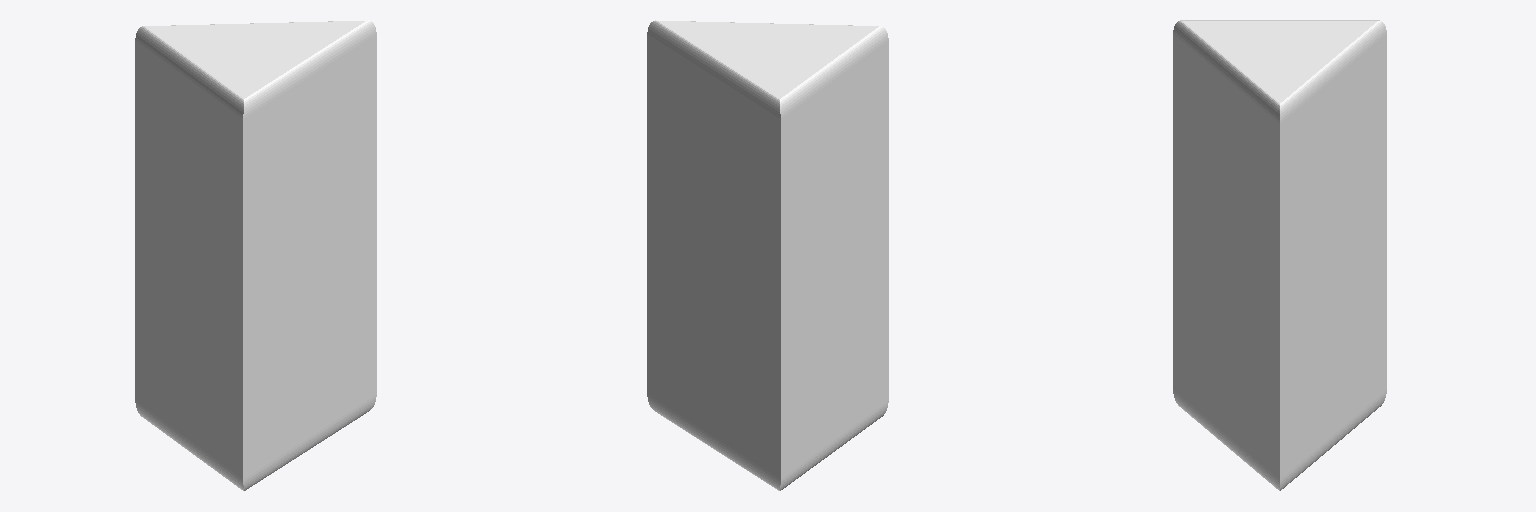
The robot description file, URDF, robot "apple.urdf":
<?xml version="0.0" ?>
<robot name="apple.urdf">
  <link name="baseLink">
    <contact>
      <lateral_friction value="0.3"/>
      <stiffness value="10000.0"/>
    </contact>
    <inertial>
      <origin rpy="0 0 0" xyz="0 0 0"/>
       <mass value="0.1"/>
       <inertia ixx="1" ixy="0" ixz="0" iyy="1" iyz="0" izz="1"/>
    </inertial>
    <visual>
      <origin rpy="0 0 0" xyz="0 0 0"/>
      <geometry>
            <mesh filename="cosmetic.stl" scale="0.001 0.001 0.001"/>
      </geometry>
       <material name="white">
        <color rgba="1 1 1 1"/>
      </material>
    </visual>
    <collision>
      <origin rpy="0 0 0" xyz="0 0 0"/>
      <geometry>
	 	<mesh filename="cosmetic.stl" scale="0.001 0.001 0.001"/>
      </geometry>
    </collision>
  </link>  
</robot>

--- What the picture shows (computed from the rendered views, not written in the file) ---
The picture shows the robot from 3 angles, left to right: view 1: azimuth 30°, elevation 25°; view 2: azimuth 150°, elevation 25°; view 3: azimuth 270°, elevation 25°; orthographic projection.
Robot: apple.urdf — 1 links, 0 joints (none); root link baseLink; default pose: all joints at 0.
Links seen in each view (by area): view 1: baseLink; view 2: baseLink; view 3: baseLink.
Link boxes in pixels (box(x1,y1,x2,y2)): baseLink: box(135, 20, 376, 490); baseLink: box(647, 20, 888, 490); baseLink: box(1173, 20, 1386, 490).
Size in the robot's own frame: 0.04 by 0.04 by 0.08 metres.
1 mesh visuals loaded from 1 distinct referenced files (1 binary STL).